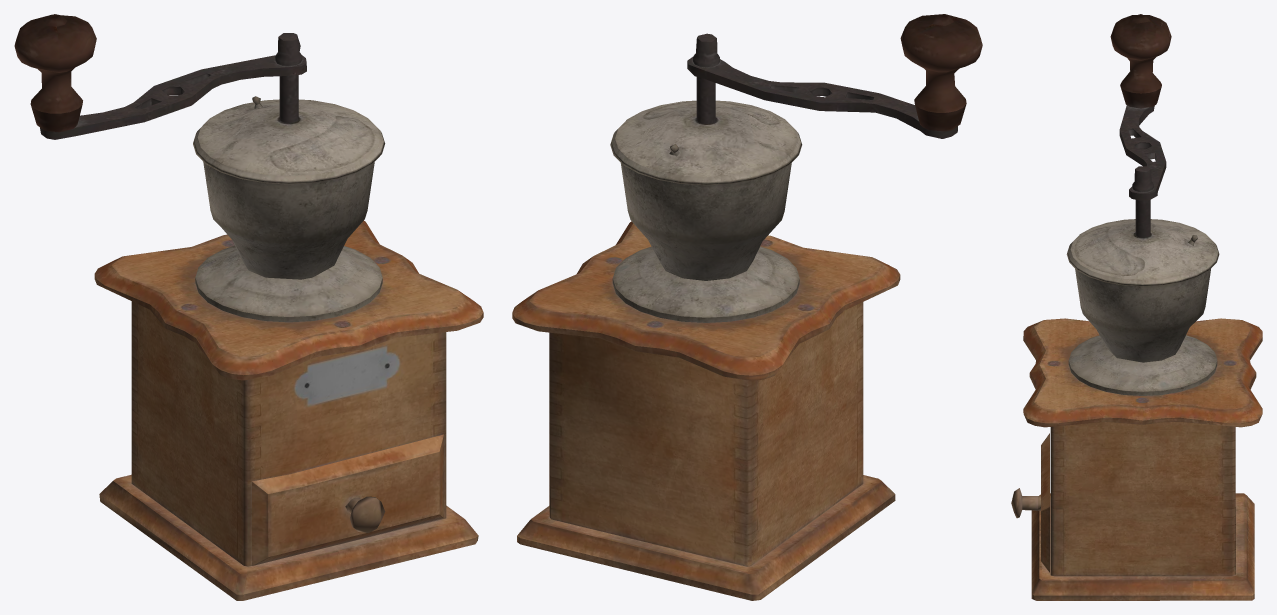
Rendered from antique_coffee_mill.lod1.glb.
3 views of the same model, side by side, from view 1: azimuth 30°, elevation 25°; view 2: azimuth 150°, elevation 25°; view 3: azimuth 270°, elevation 25° (orthographic). The views are drawn at different scales.
Visible parts, largest first — view 1: Coffee_Mill_LOD0, Handle_LOD0; view 2: Coffee_Mill_LOD0, Handle_LOD0; view 3: Coffee_Mill_LOD0, Handle_LOD0.
Part boxes in pixels (x1,y1,x2,y2): Coffee_Mill_LOD0: (94,96,483,600); Handle_LOD0: (14,14,306,139); Coffee_Mill_LOD0: (512,100,900,600); Handle_LOD0: (687,14,982,138); Coffee_Mill_LOD0: (1011,219,1262,600); Handle_LOD0: (1110,14,1171,237).
Bounding box in the file's own units: 19.81 × 26.52 × 13.53.
1 material, 1 textured.
